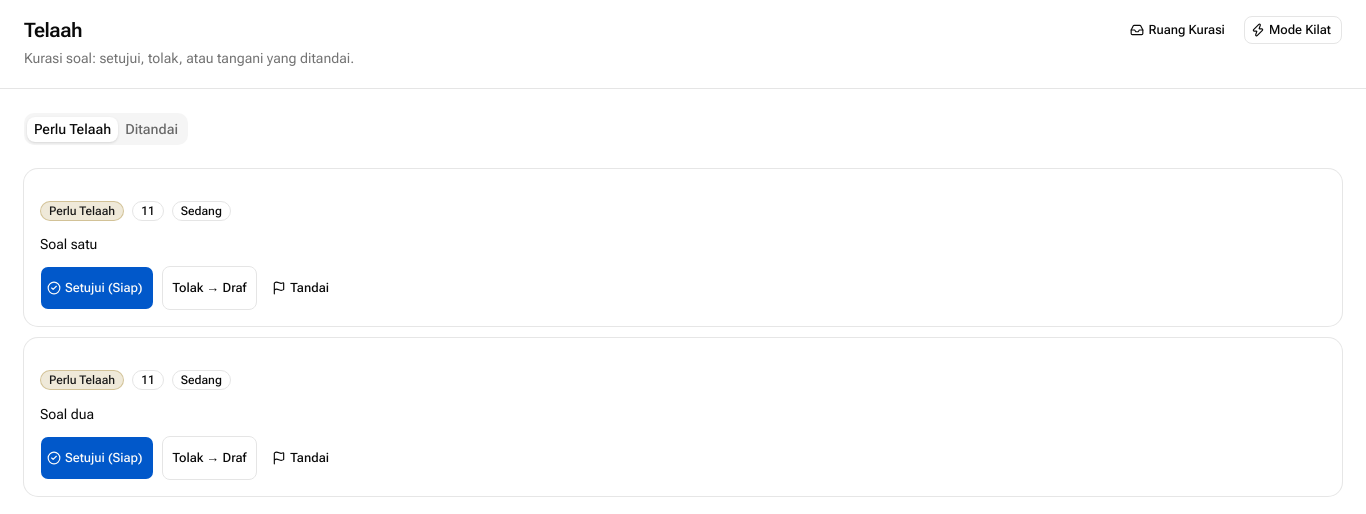
Test: ReviewView — Mode Kilat (G3.2) › navigasi keyboard → (ArrowRight) berpindah soal
The width and height of the screenshot is (1366, 514).
Click the button "Mode Kilat" at (1293, 30), box 1244,16 -> 1342,44
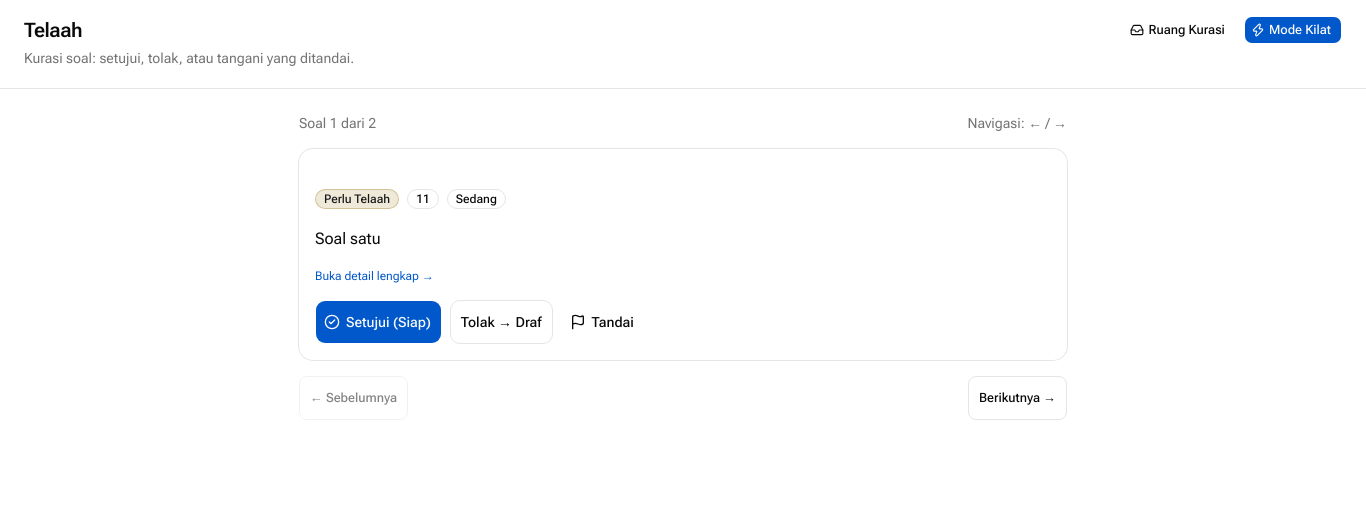
Press ArrowRight
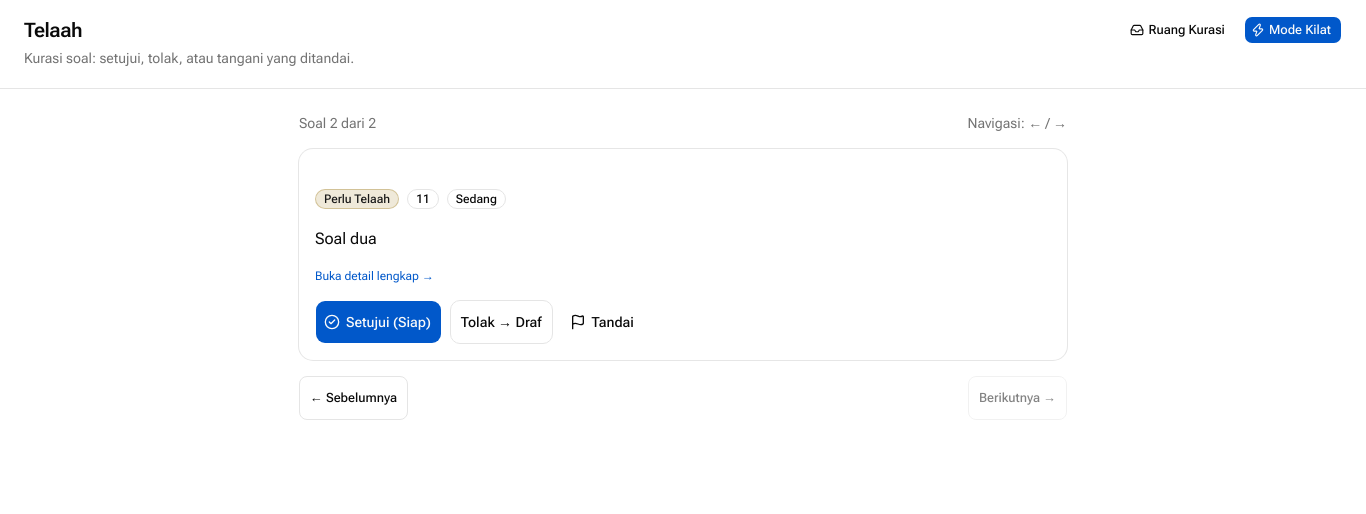
Expected: the text "Soal 2 dari 2" is shown, 299,113 -> 376,133
Press ArrowLeft
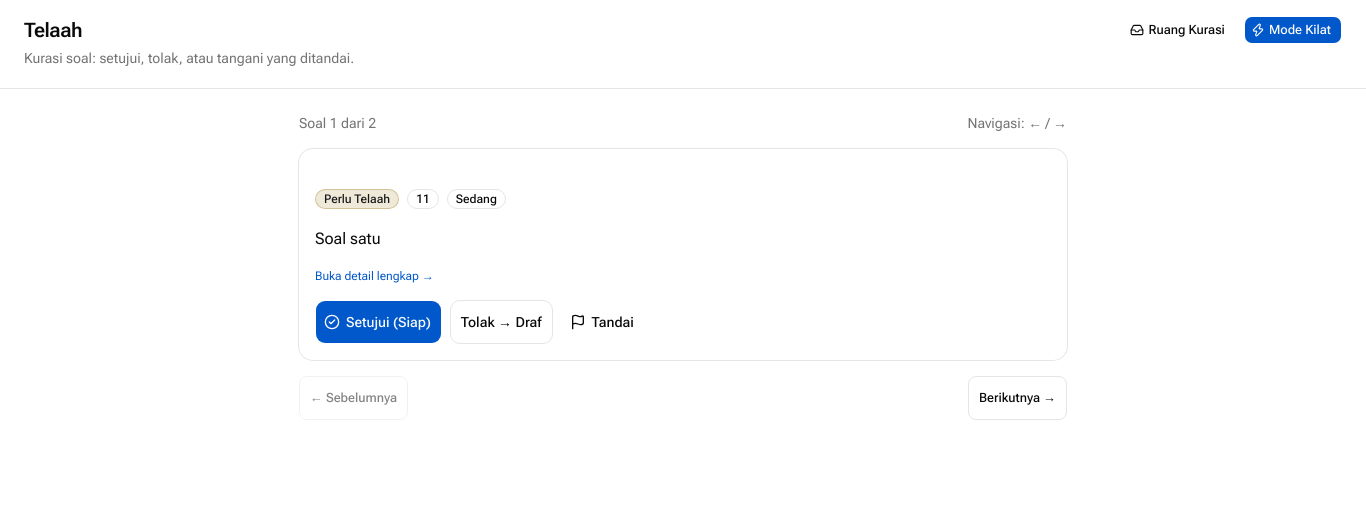
Expected: the text "Soal 1 dari 2" is shown, 299,113 -> 376,133
